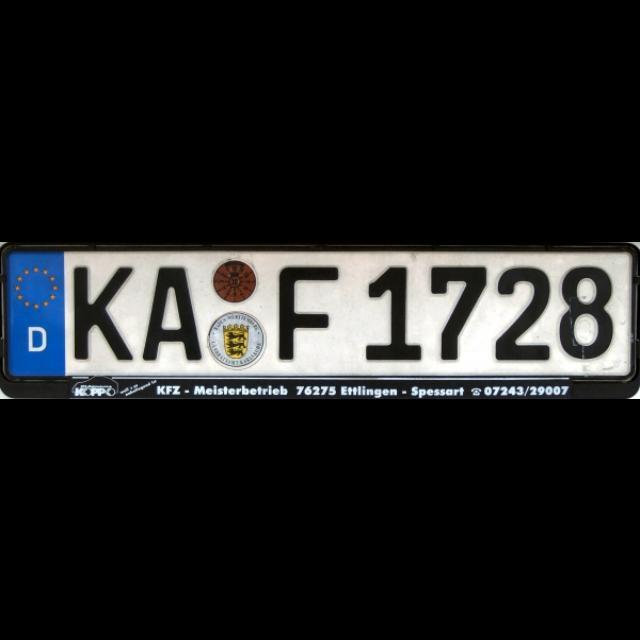license-plates: (0, 244, 640, 400)
